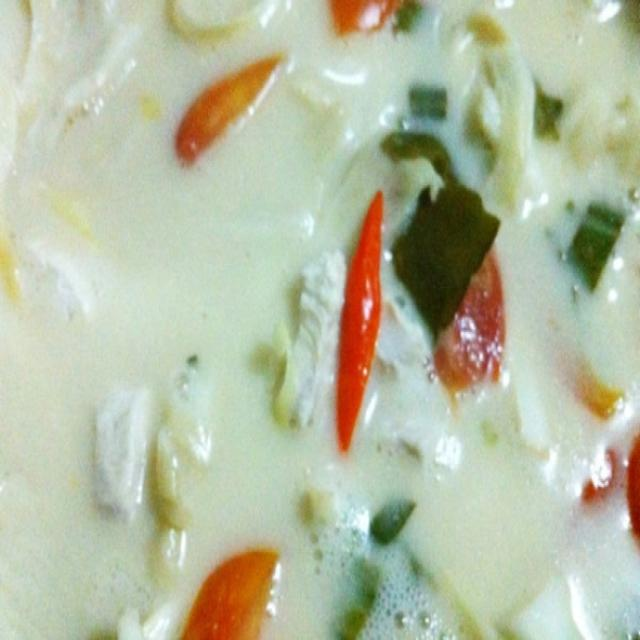汤锅炖物: (15, 23, 629, 617)
